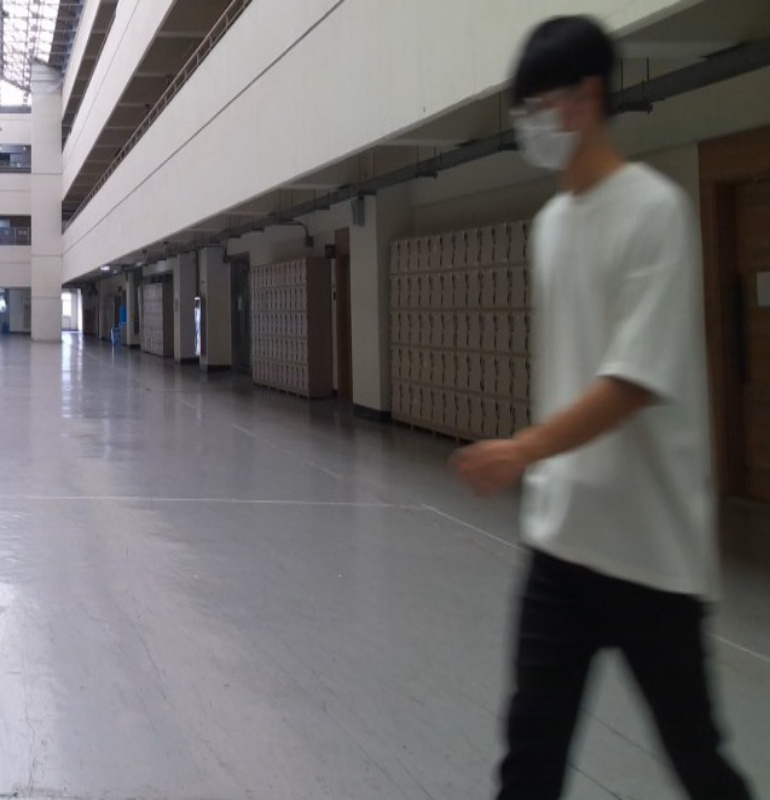person: (453, 14, 762, 800)
